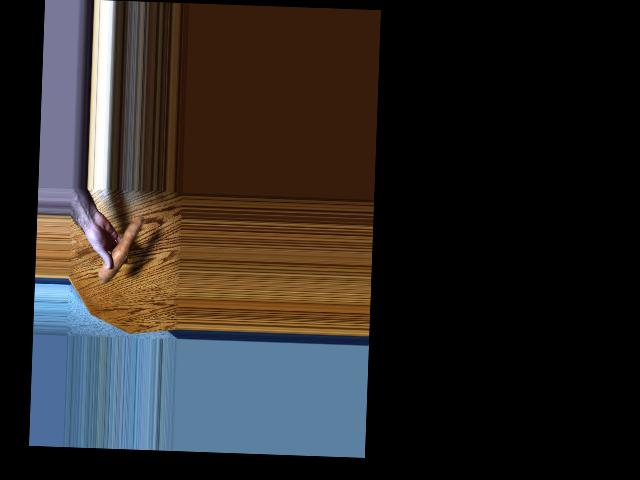sweet_potato: (100, 215, 138, 291)
